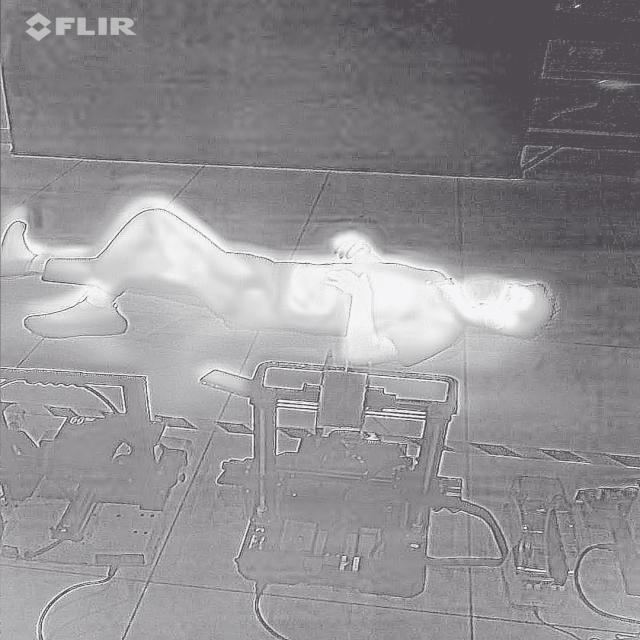Victim: (0, 196, 581, 372)
